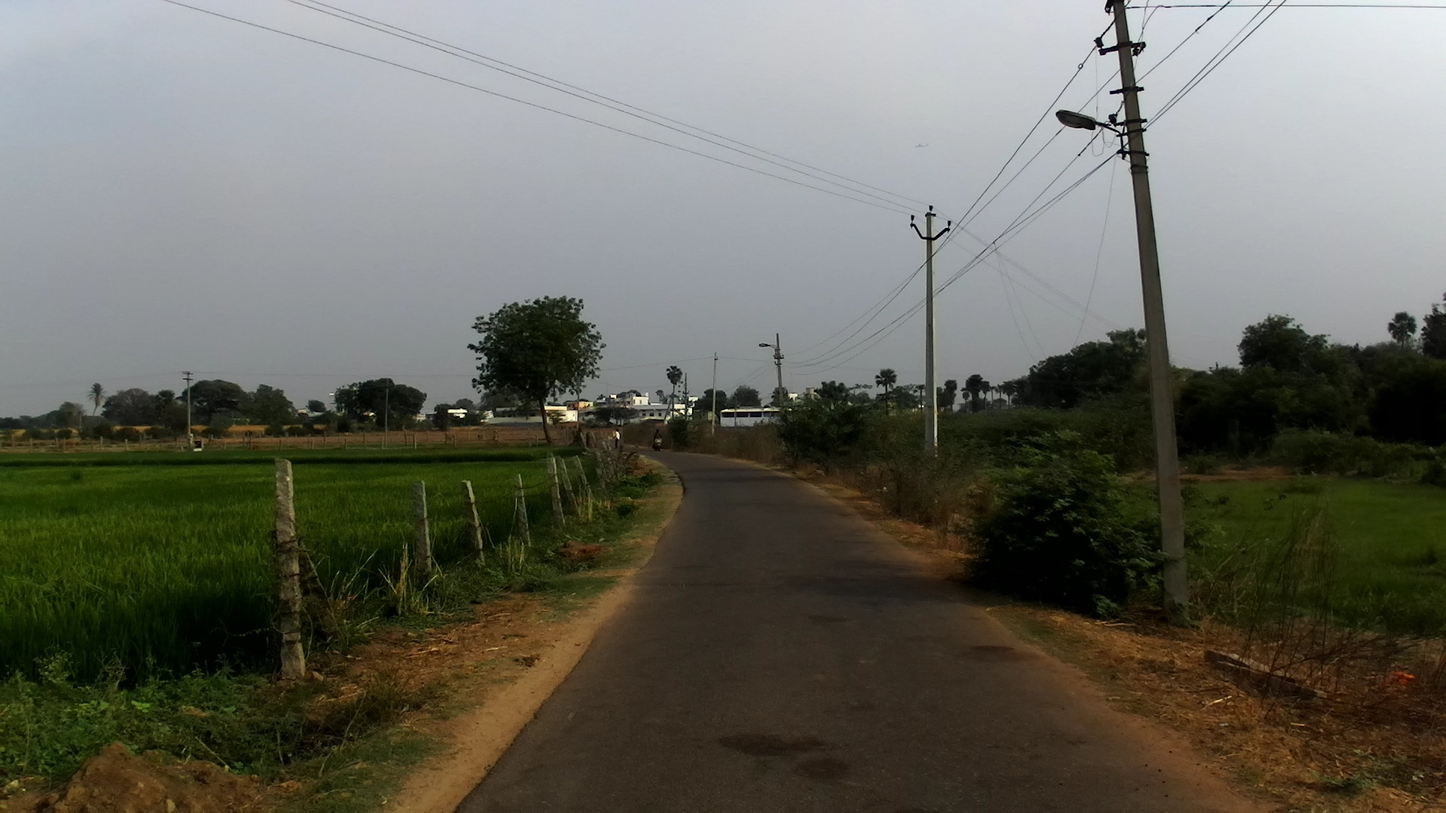animal: (621, 422, 630, 426), (608, 421, 613, 426), (617, 423, 621, 427)
motorcycle: (651, 437, 664, 452)
person: (615, 427, 621, 449)
rider: (653, 428, 664, 443)
